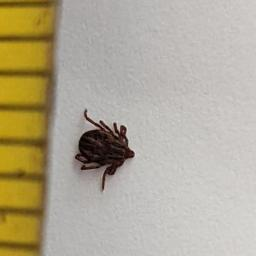Rhipicephalus sanguineus: (74, 108, 133, 193)
